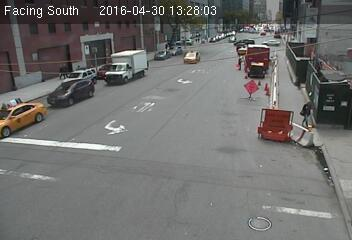neg: (111, 113, 139, 151), (172, 89, 193, 116), (272, 30, 289, 52), (183, 46, 195, 62)
pos: (294, 97, 319, 130), (53, 61, 66, 78), (59, 62, 71, 78), (234, 54, 246, 70)
